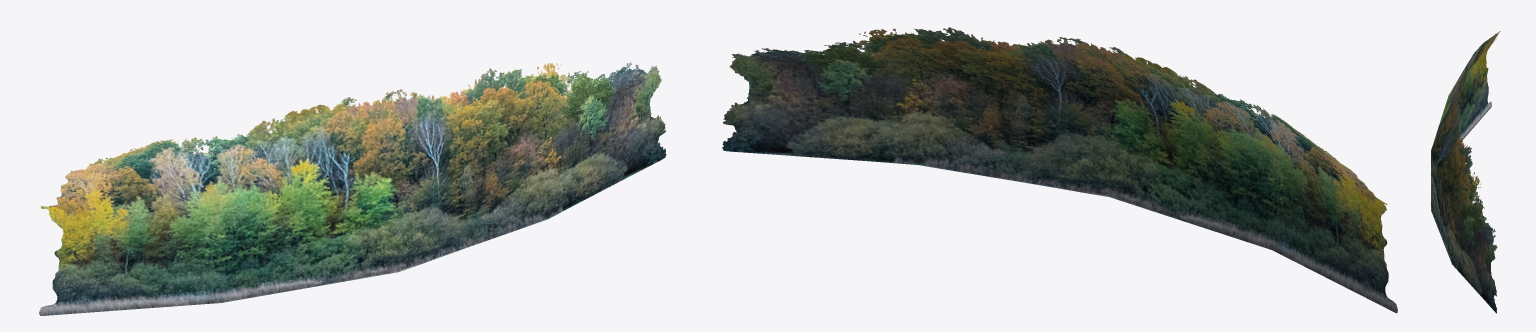
The model's file is TreeLine03.fbx.
3 renders of one model, left to right at view 1: azimuth 30°, elevation 25°; view 2: azimuth 150°, elevation 25°; view 3: azimuth 270°, elevation 25°, orthographic. The views are drawn at different scales.
Visible parts, largest first — view 1: TreeLine03; view 2: TreeLine03; view 3: TreeLine03.
Part boxes in pixels (x1=…): TreeLine03: x1=39, y1=62, x2=666, y2=315; TreeLine03: x1=722, y1=27, x2=1397, y2=313; TreeLine03: x1=1431, y1=31, x2=1500, y2=313.
Bounding box in the file's own units: 4.83 × 1.24 × 0.8708.
Materials: 1 (1 with a texture image).
